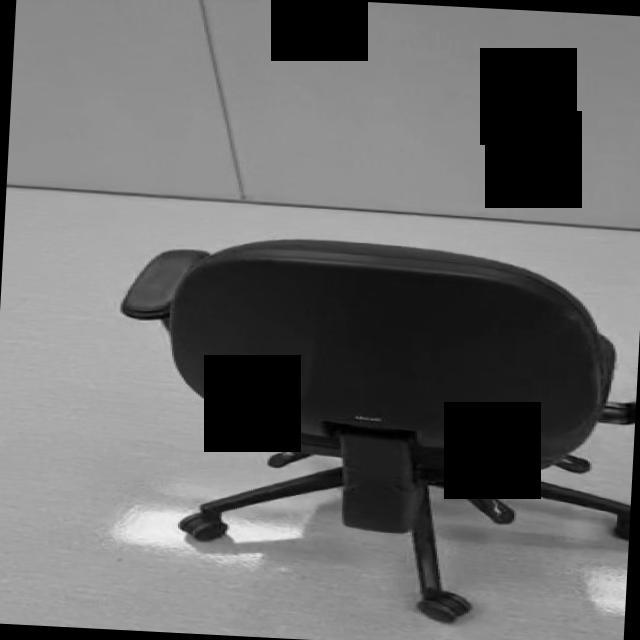chair: (103, 229, 640, 630)
